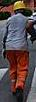boots: (14, 85, 22, 101), (9, 81, 14, 93)
hard-hat: (12, 1, 24, 11)
